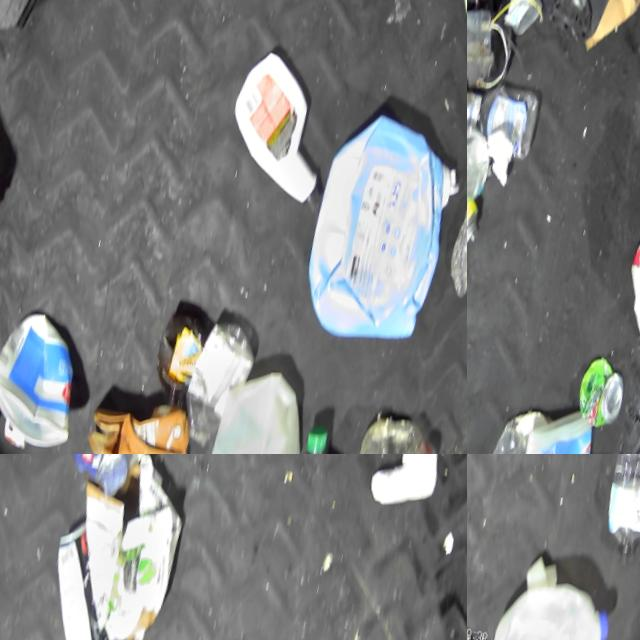can: (556, 352, 627, 437), (467, 9, 520, 98), (467, 121, 497, 261), (493, 0, 549, 45), (467, 123, 495, 209)
milk_jug: (177, 357, 313, 454), (471, 567, 608, 640), (386, 0, 467, 50)
non_white_jug: (268, 97, 467, 364)
plastic_bottle: (157, 311, 259, 454), (574, 454, 640, 575), (420, 150, 467, 319), (327, 404, 441, 454)
